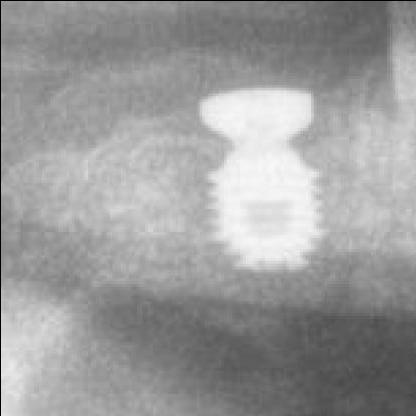Bicon: (199, 151, 327, 274)
